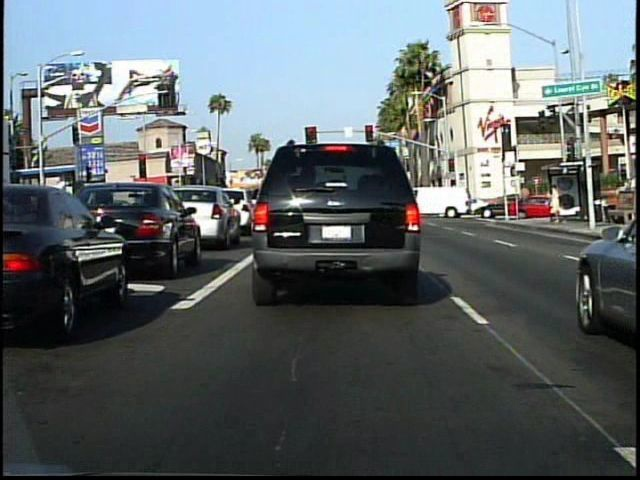person: (545, 181, 566, 229)
